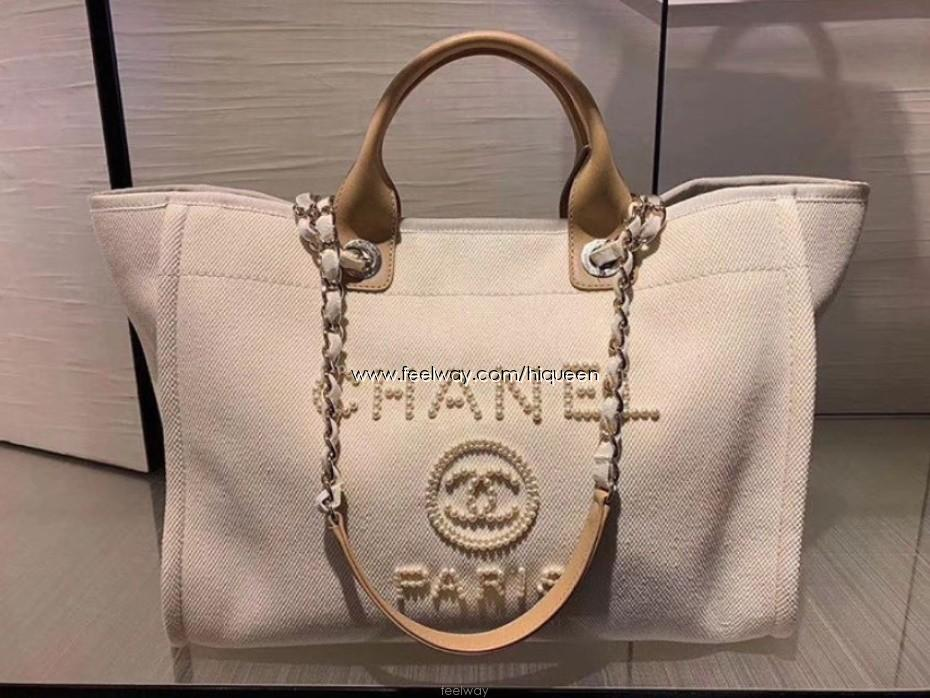channel: (82, 176, 835, 660), (314, 361, 663, 447), (270, 212, 434, 337), (391, 438, 554, 553)
